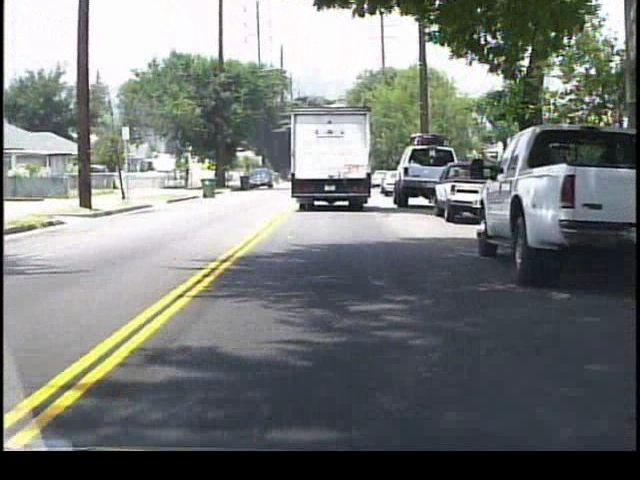person: (183, 164, 193, 188)
